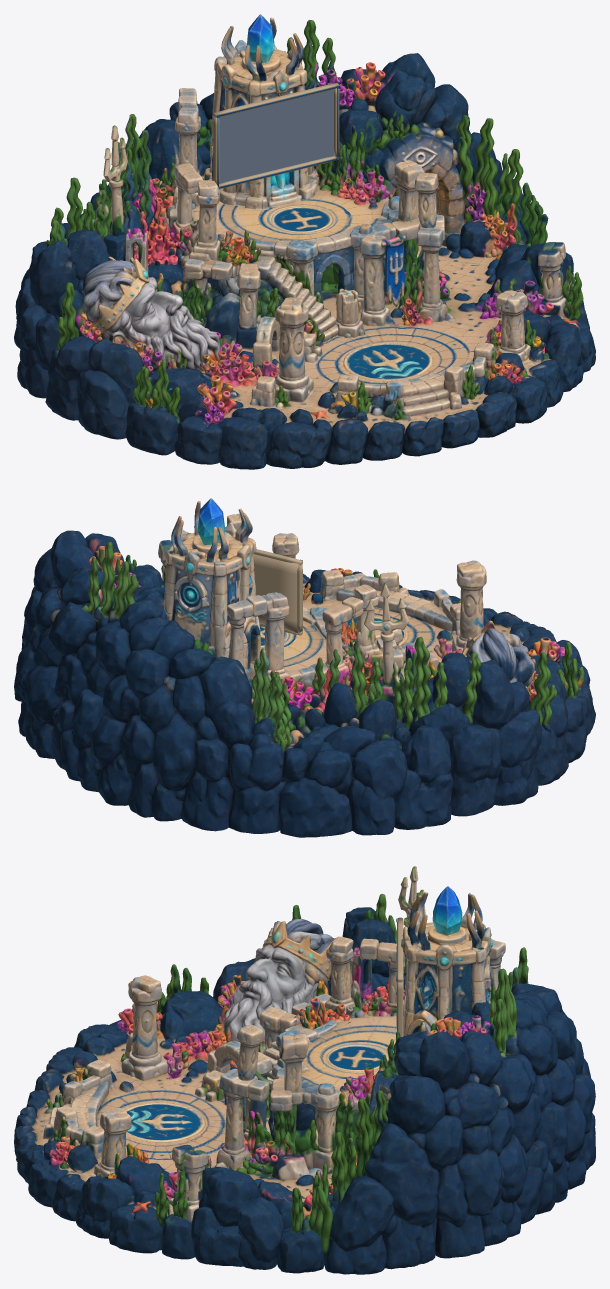
File: kfb-meshy-atlantis.screen-a.v1.glb
3 views of the same model, one above another, from view 1: azimuth 30°, elevation 25°; view 2: azimuth 150°, elevation 25°; view 3: azimuth 270°, elevation 25° (orthographic). The views are drawn at different scales.
Parts seen in each view (by area): view 1: atlantis, kfb_screen_slot, kfb_screen_frame; view 2: atlantis, kfb_screen_frame; view 3: atlantis, kfb_screen_frame.
Boxes of the visible parts, x1=… form: atlantis: x1=14, y1=14, x2=595, y2=469; kfb_screen_slot: x1=219, y1=89, x2=334, y2=183; kfb_screen_frame: x1=213, y1=83, x2=339, y2=189; atlantis: x1=14, y1=498, x2=595, y2=837; kfb_screen_frame: x1=187, y1=532, x2=302, y2=635; atlantis: x1=14, y1=866, x2=595, y2=1274; kfb_screen_frame: x1=396, y1=917, x2=403, y2=1036.
Bounding box in the file's own units: 1.9 × 0.9751 × 1.85.
4 materials, 1 textured.
